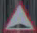Speed Breaker ahead: (3, 0, 35, 32)
